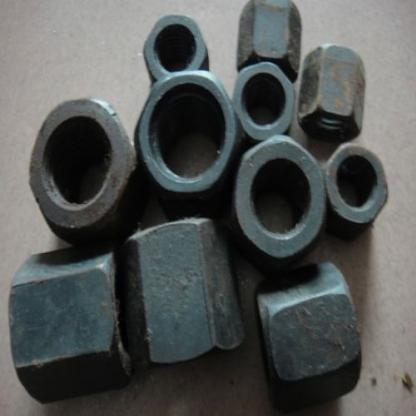FOD: (298, 44, 366, 139)
